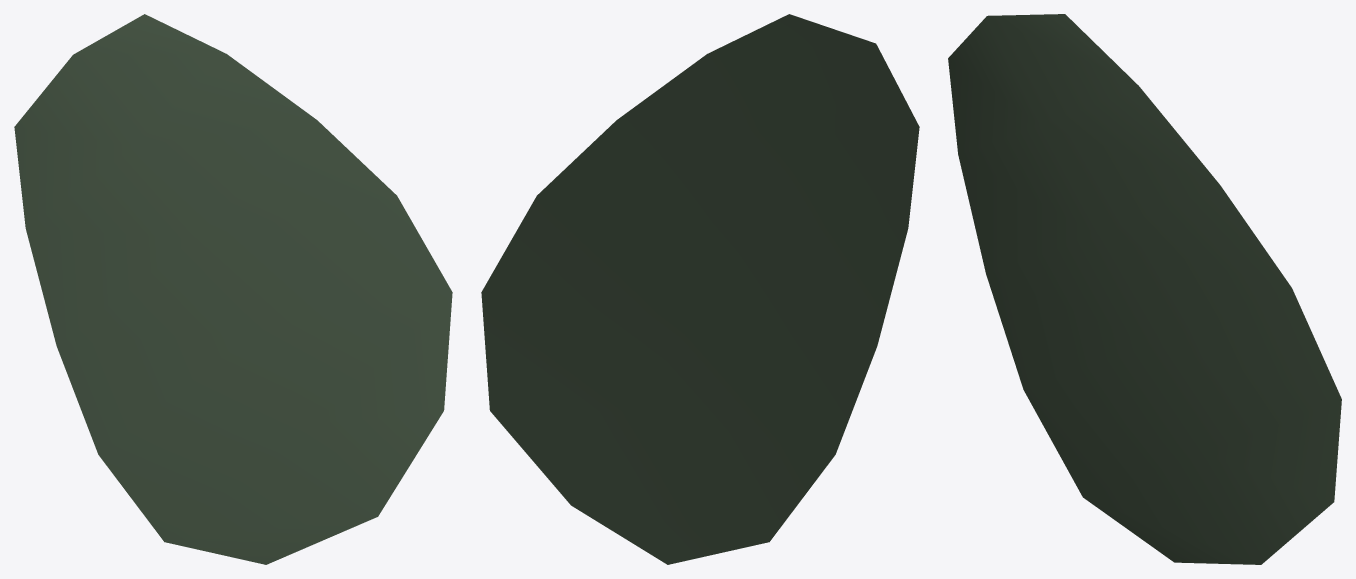
The model's file is duck_feather_flight_tertiary_024.obj.
3 views of the same model, side by side, from view 1: azimuth 30°, elevation 25°; view 2: azimuth 150°, elevation 25°; view 3: azimuth 330°, elevation 25° (orthographic). The views are drawn at different scales.
Visible parts, largest first — view 1: feather_flight_tertiary_024; view 2: feather_flight_tertiary_024; view 3: feather_flight_tertiary_024.
Part boxes in pixels (x1=…): feather_flight_tertiary_024: x1=14, y1=14, x2=452, y2=564; feather_flight_tertiary_024: x1=481, y1=14, x2=919, y2=564; feather_flight_tertiary_024: x1=948, y1=14, x2=1341, y2=564.
Bounding box in the file's own units: 0.021 × 0.0266 × 0.000633.
